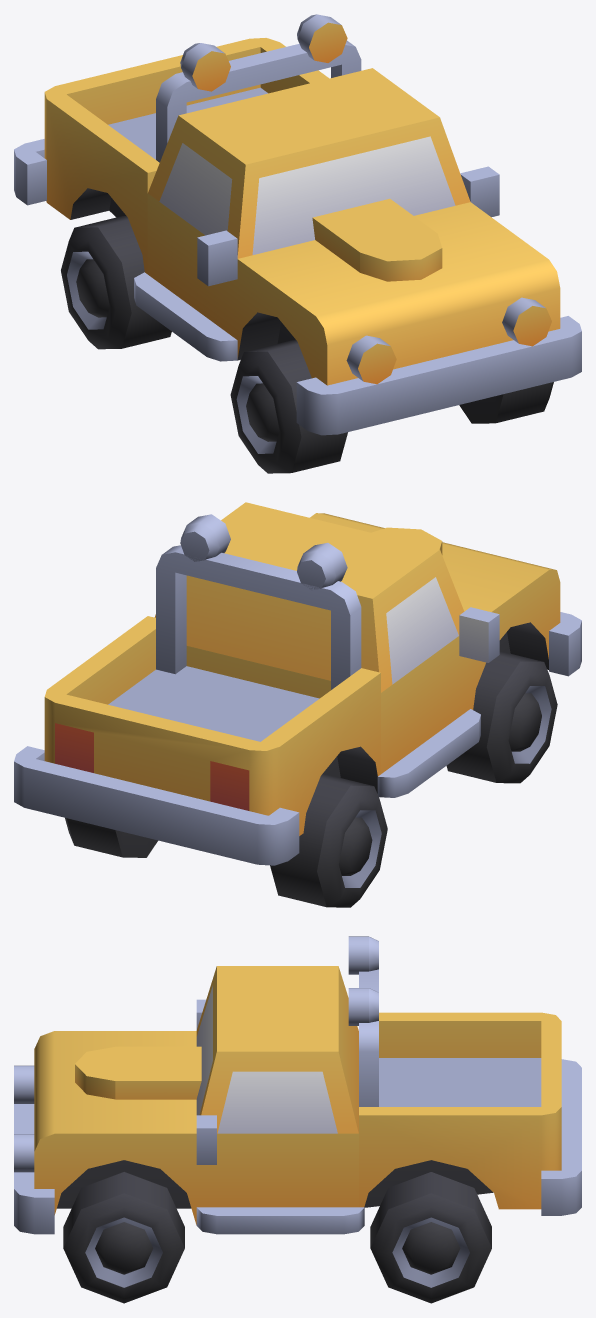
Rendered from vehicle-truck-yellow.fbx.
3 views of the same model, one above another, from view 1: azimuth 30°, elevation 25°; view 2: azimuth 150°, elevation 25°; view 3: azimuth 270°, elevation 25° (orthographic). The views are drawn at different scales.
Parts seen in each view (by area): view 1: body, wheel-back-right, wheel-front-right, wheel-front-left; view 2: body, wheel-back-right, wheel-front-right, wheel-back-left; view 3: body, wheel-front-left, wheel-back-left.
Part boxes in pixels (box(x1,y1,x2,y2)): body: box(14, 14, 581, 435); wheel-back-right: box(61, 216, 171, 349); wheel-front-right: box(230, 340, 347, 473); wheel-front-left: box(459, 382, 553, 423); body: box(14, 502, 581, 865); wheel-back-right: box(270, 774, 387, 907); wheel-front-right: box(446, 651, 557, 783); wheel-back-left: box(65, 818, 157, 857); body: box(14, 936, 581, 1234); wheel-front-left: box(63, 1172, 184, 1303); wheel-back-left: box(370, 1172, 491, 1303).
Bounding box in the file's own units: 1.5 × 1.55 × 2.8.
